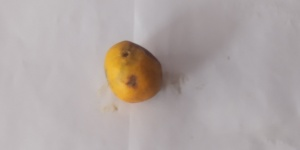BAD: (104, 40, 163, 105)
